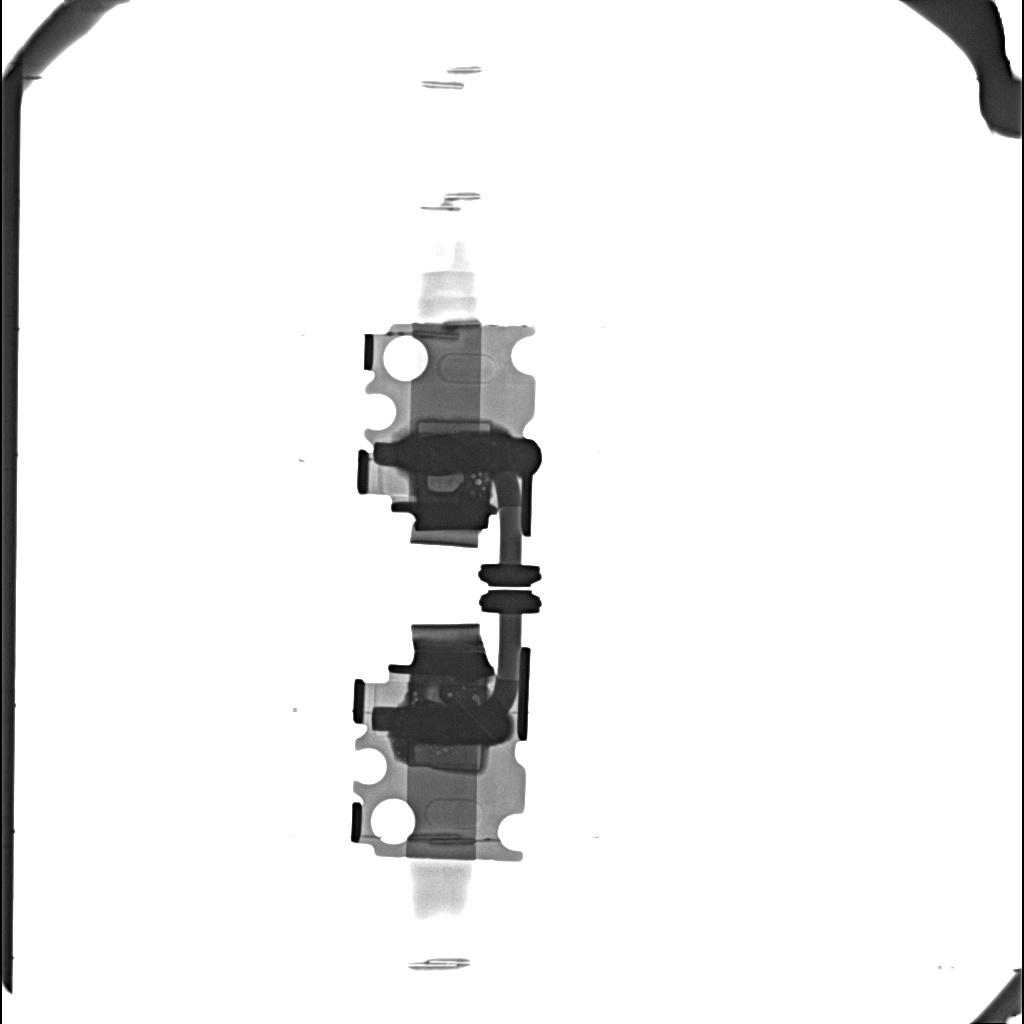defect: (398, 434, 538, 474), (392, 704, 509, 744), (405, 743, 484, 772), (415, 419, 492, 432), (427, 474, 464, 493), (425, 684, 446, 706), (472, 695, 480, 704), (474, 479, 482, 486)
